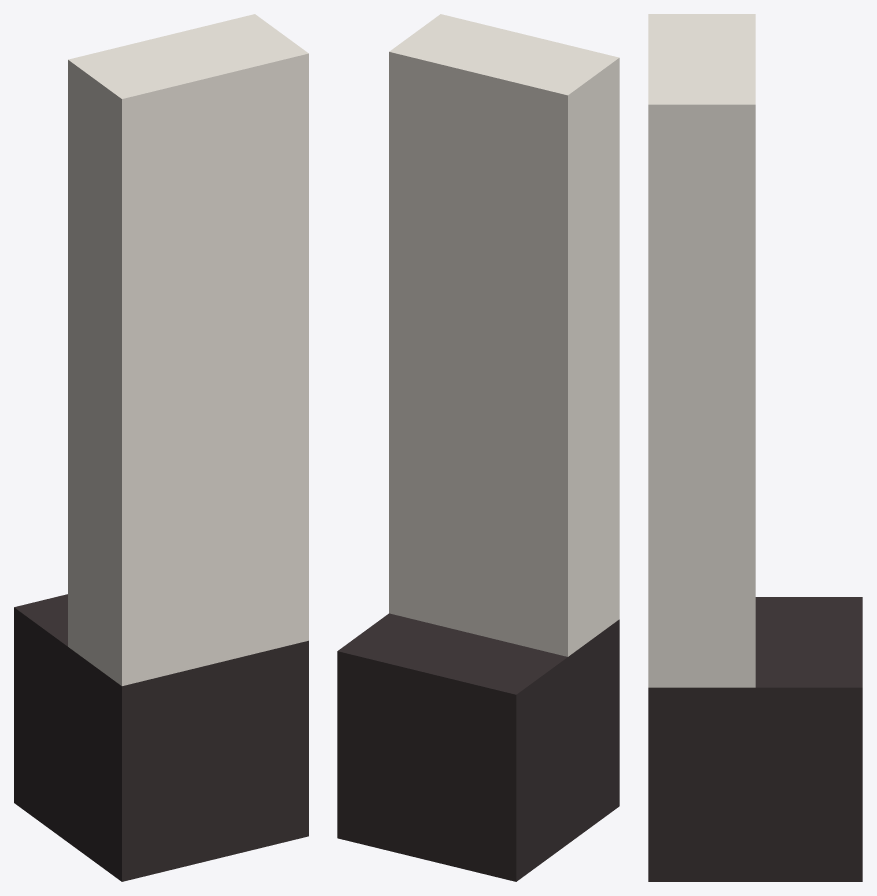
The model's file is calf__tail.glb.
The picture shows the model from 3 angles, left to right: view 1: azimuth 30°, elevation 25°; view 2: azimuth 150°, elevation 25°; view 3: azimuth 270°, elevation 25°; orthographic projection. The views are drawn at different scales.
Parts seen in each view (by area): view 1: calf__tail; view 2: calf__tail; view 3: calf__tail.
Boxes of the visible parts, x1,y1,x2,y2 form: calf__tail: [14, 14, 308, 881]; calf__tail: [337, 14, 619, 881]; calf__tail: [648, 14, 862, 881].
Bounding box in the file's own units: 0.2 × 0.8 × 0.2.
1 material, 1 textured.
